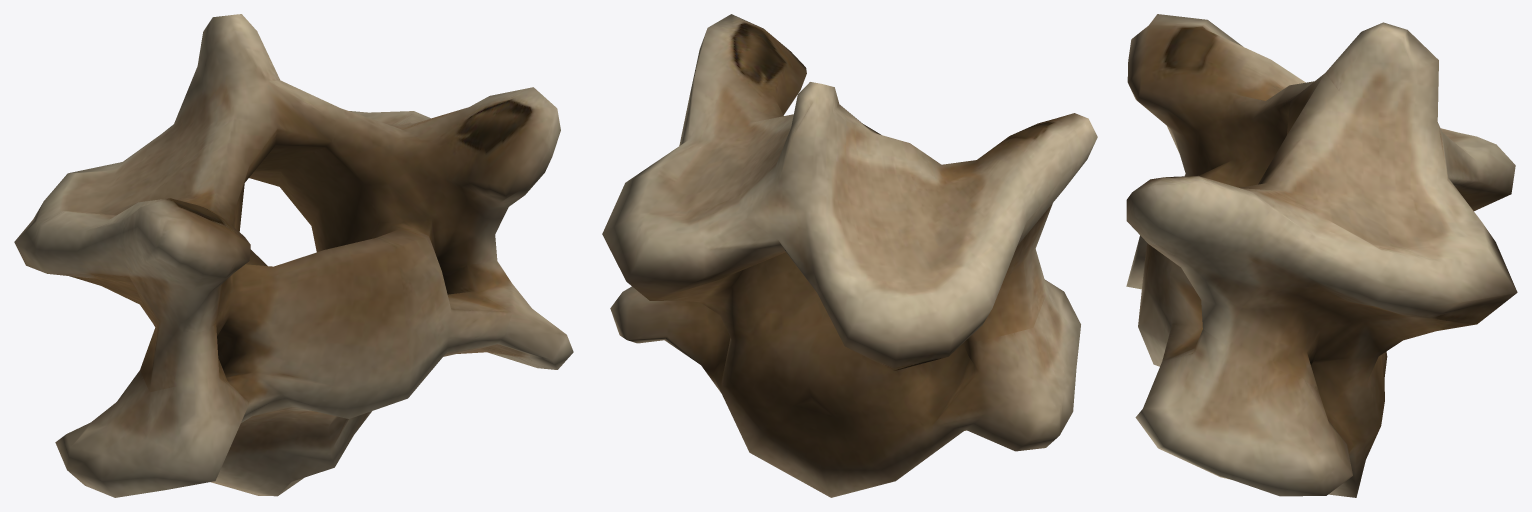
The picture shows the model from 3 angles, left to right: view 1: azimuth 30°, elevation 25°; view 2: azimuth 150°, elevation 25°; view 3: azimuth 270°, elevation 25°; orthographic projection. The views are drawn at different scales.
Parts seen in each view (by area): view 1: C9:Group47942; view 2: C9:Group47942; view 3: C9:Group47942.
Boxes of the visible parts, box(x1,y1,x2,y2) form: C9:Group47942: box(14, 14, 573, 497); C9:Group47942: box(602, 14, 1097, 497); C9:Group47942: box(1126, 14, 1517, 497).
Bounding box in the file's own units: 34.33 × 32.46 × 24.78.
Materials: 1 (1 with a texture image).
